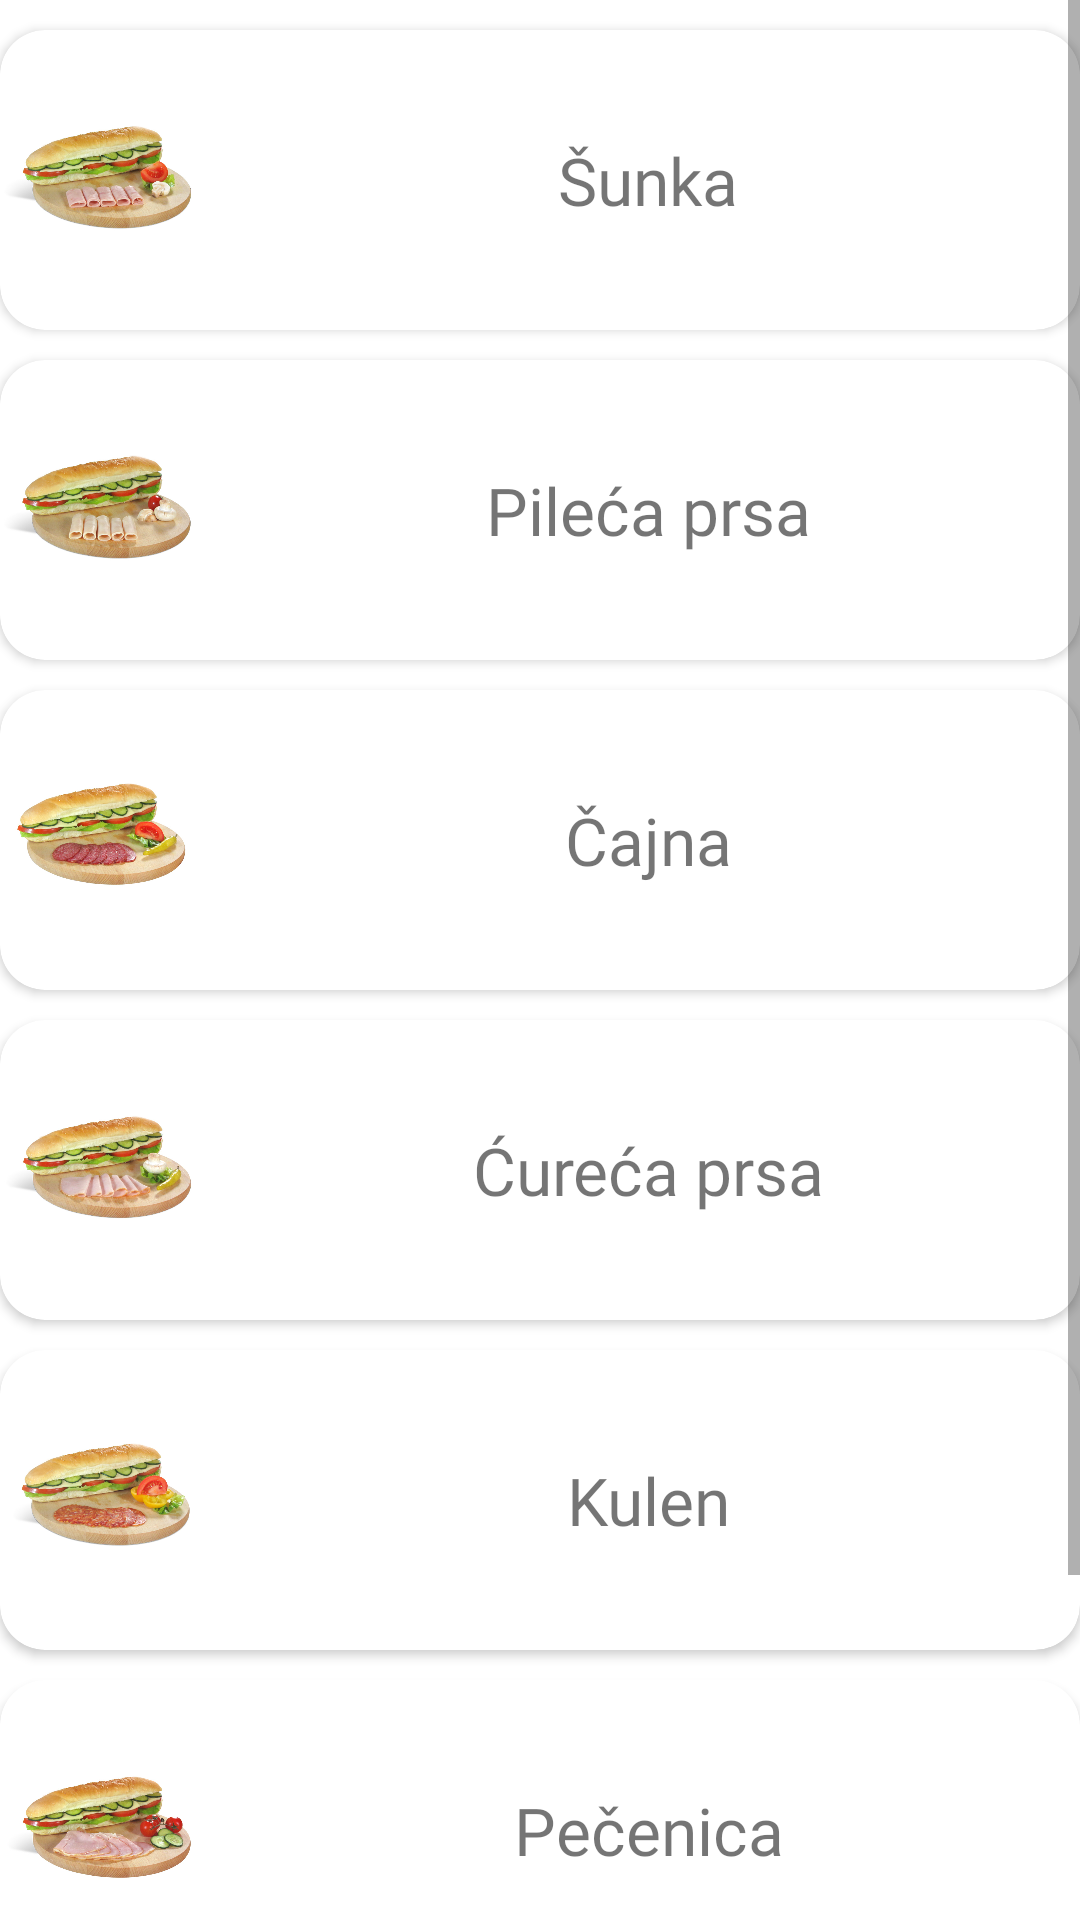

Icons on this 1080px×1920px Android screen, each with the point to tap as (x=x, y=y):
sendvic pileca prsa: (x=104, y=507)
sendvic sa cajnom: (x=101, y=834)
sendvic sa curecim prsima: (x=105, y=1167)
